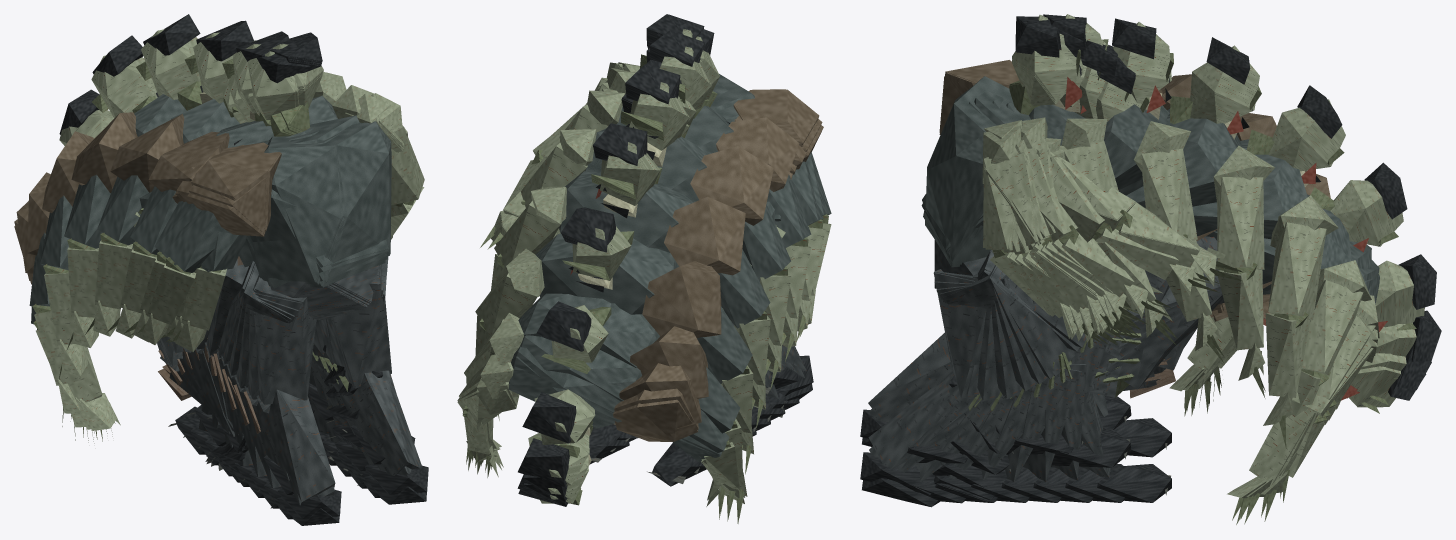
Rendered from armored_baked_poses_far.glb.
3 renders of one model, left to right at view 1: azimuth 30°, elevation 25°; view 2: azimuth 150°, elevation 25°; view 3: azimuth 270°, elevation 25°, orthographic. The views are drawn at different scales.
Parts seen in each view (by area): view 1: walk_03, walk_09, death_03, death_02, death_04, death_00, death_05, walk_02, walk_08, walk_07, death_01, walk_01 (+14 smaller); view 2: death_05, death_04, death_03, death_06, death_02, death_07, death_01, death_09, death_08, walk_03, death_00, attack_01 (+8 smaller); view 3: walk_09, death_04, death_05, death_03, death_06, death_02, walk_08, death_07, death_09, attack_02, walk_03, walk_01 (+19 smaller).
Boxes of the visible parts, left/top/right/bottom form: walk_03: left=191, top=33, right=424, bottom=486; walk_09: left=168, top=32, right=407, bottom=494; death_03: left=85, top=14, right=362, bottom=470; death_02: left=106, top=20, right=368, bottom=479; death_04: left=64, top=35, right=359, bottom=466; death_00: left=130, top=51, right=398, bottom=344; death_05: left=40, top=89, right=382, bottom=470; walk_02: left=191, top=57, right=428, bottom=494; walk_08: left=166, top=61, right=407, bottom=518; walk_07: left=161, top=59, right=406, bottom=525; death_01: left=123, top=31, right=374, bottom=483; walk_01: left=183, top=59, right=426, bottom=504; death_05: left=475, top=233, right=753, bottom=474; death_04: left=491, top=171, right=770, bottom=429; death_03: left=520, top=123, right=791, bottom=389; death_06: left=464, top=293, right=747, bottom=517; death_02: left=559, top=64, right=811, bottom=361; death_07: left=459, top=335, right=744, bottom=523; death_01: left=553, top=30, right=825, bottom=341; death_09: left=457, top=303, right=720, bottom=506; death_08: left=457, top=346, right=744, bottom=502; walk_03: left=617, top=14, right=819, bottom=436; death_00: left=606, top=29, right=831, bottom=337; attack_01: left=480, top=94, right=792, bottom=309; walk_09: left=925, top=16, right=1134, bottom=502; death_04: left=964, top=74, right=1345, bottom=453; death_05: left=949, top=113, right=1407, bottom=448; death_03: left=950, top=37, right=1261, bottom=474; death_06: left=1001, top=170, right=1436, bottom=502; death_02: left=932, top=18, right=1177, bottom=488; walk_08: left=860, top=48, right=1132, bottom=502; death_07: left=1097, top=241, right=1441, bottom=521; death_09: left=1106, top=236, right=1426, bottom=524; attack_02: left=921, top=40, right=1219, bottom=436; walk_03: left=907, top=15, right=1098, bottom=463; walk_01: left=862, top=165, right=1105, bottom=507.
Size of the model in its own units: 1.11 by 1.6 by 1.83.
1 material, 1 textured.
